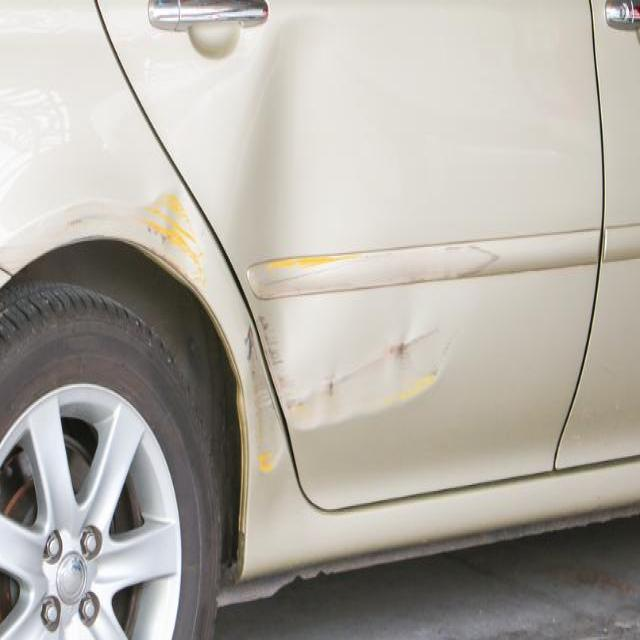Dent: (553, 222, 601, 462), (245, 332, 282, 468), (392, 330, 455, 405), (308, 355, 372, 396), (460, 243, 493, 271), (600, 228, 608, 260), (613, 618, 633, 630), (244, 333, 252, 360), (66, 216, 87, 224), (325, 376, 333, 392), (146, 337, 151, 348), (134, 316, 138, 327), (166, 354, 170, 363), (162, 232, 166, 241)
